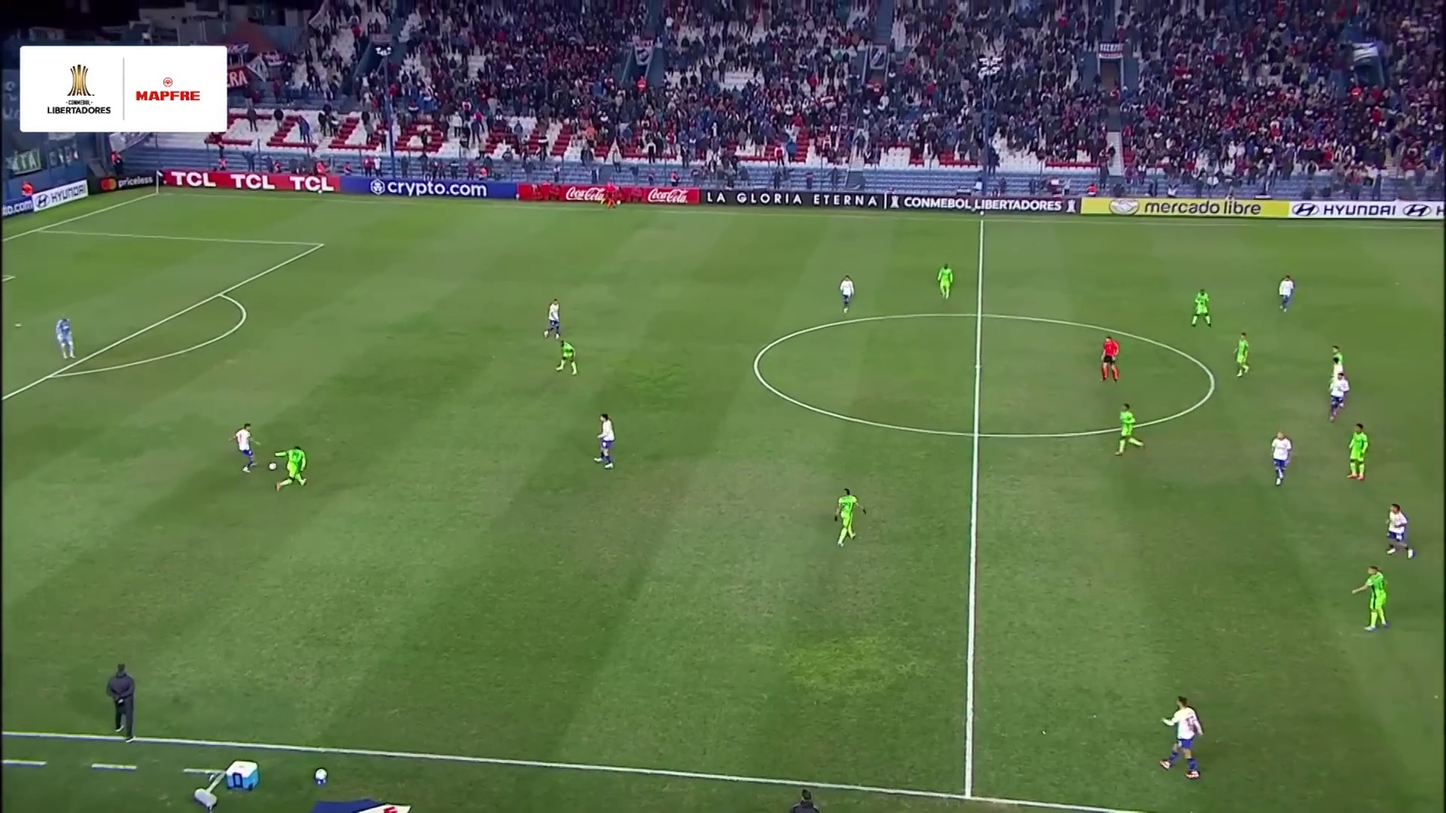ball: (269, 461, 277, 471)
player: (1156, 694, 1208, 781), (1351, 564, 1392, 632), (831, 486, 867, 547), (1383, 502, 1419, 561), (1113, 402, 1146, 458), (272, 447, 310, 492), (1344, 422, 1372, 482), (231, 422, 262, 474), (1268, 429, 1295, 488), (592, 412, 619, 470), (1323, 372, 1349, 422), (1326, 351, 1350, 402), (54, 317, 77, 362), (1189, 288, 1214, 329), (554, 337, 580, 376), (1232, 331, 1253, 379), (542, 298, 565, 340), (1275, 274, 1298, 315), (1327, 345, 1347, 389), (837, 274, 857, 315), (936, 263, 956, 301)
referee: (1099, 334, 1122, 385), (601, 182, 618, 211)
